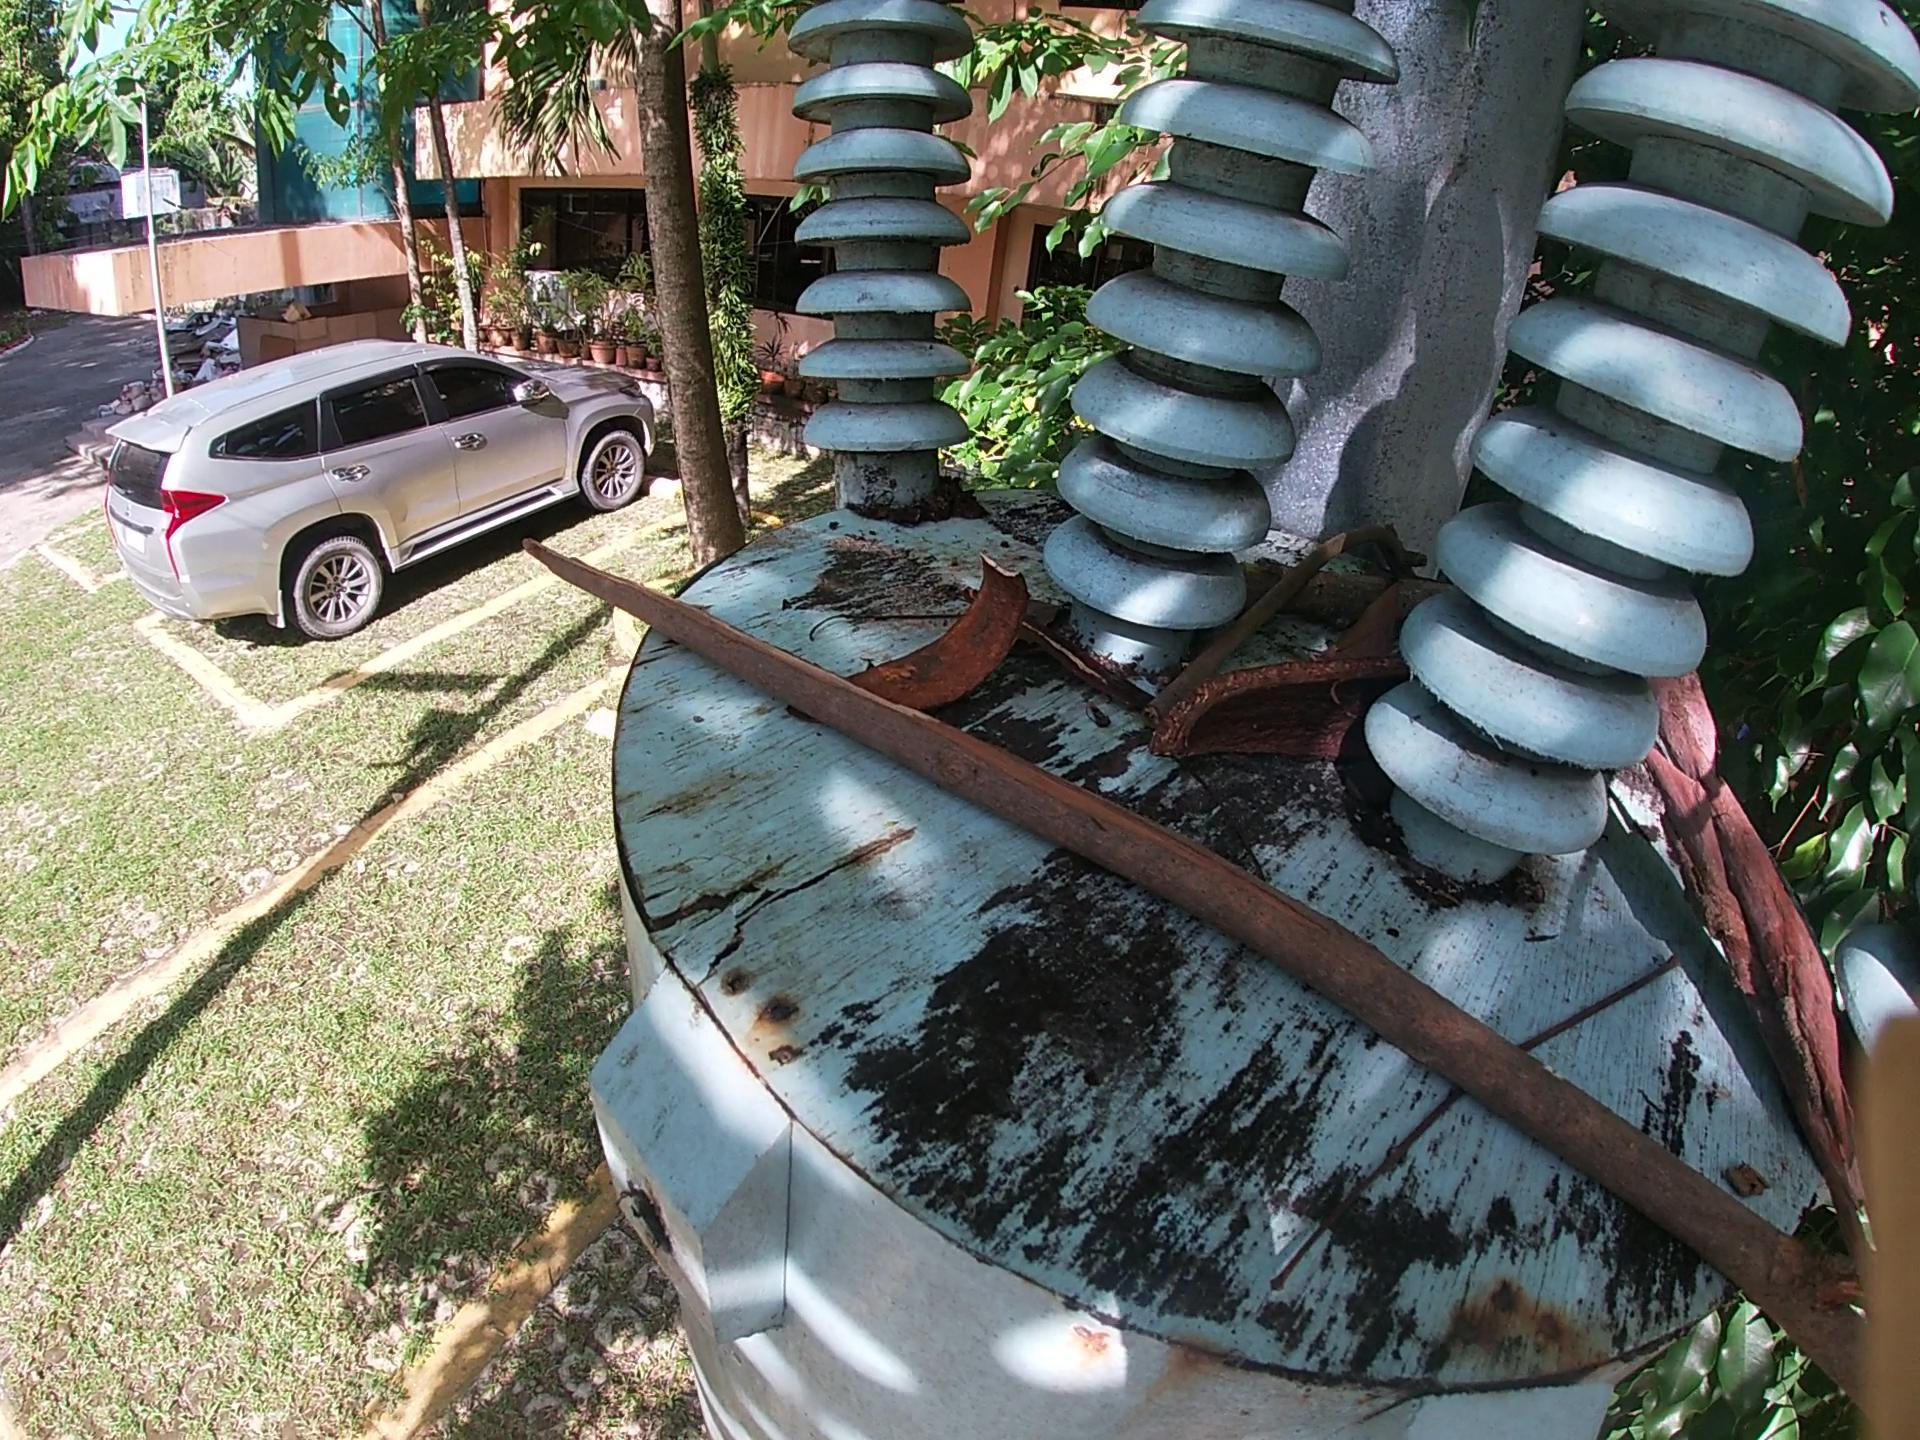leaf: (1309, 596, 1426, 667)
mahogany fruit: (1122, 659, 1417, 781), (866, 563, 1030, 703)
tree branch: (517, 540, 1905, 1393), (1618, 635, 1897, 1275), (1261, 948, 1680, 1311), (1134, 517, 1386, 711), (1222, 573, 1432, 625), (1027, 622, 1147, 700), (801, 591, 971, 640)
